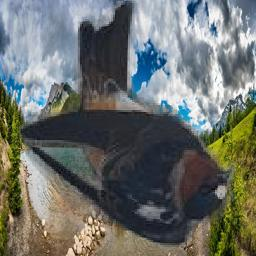Swallow: (19, 1, 235, 251)
